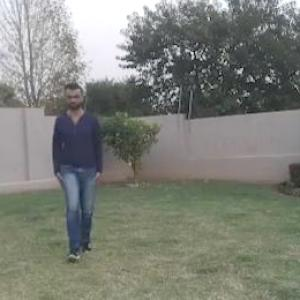follow: (52, 88, 105, 255)
